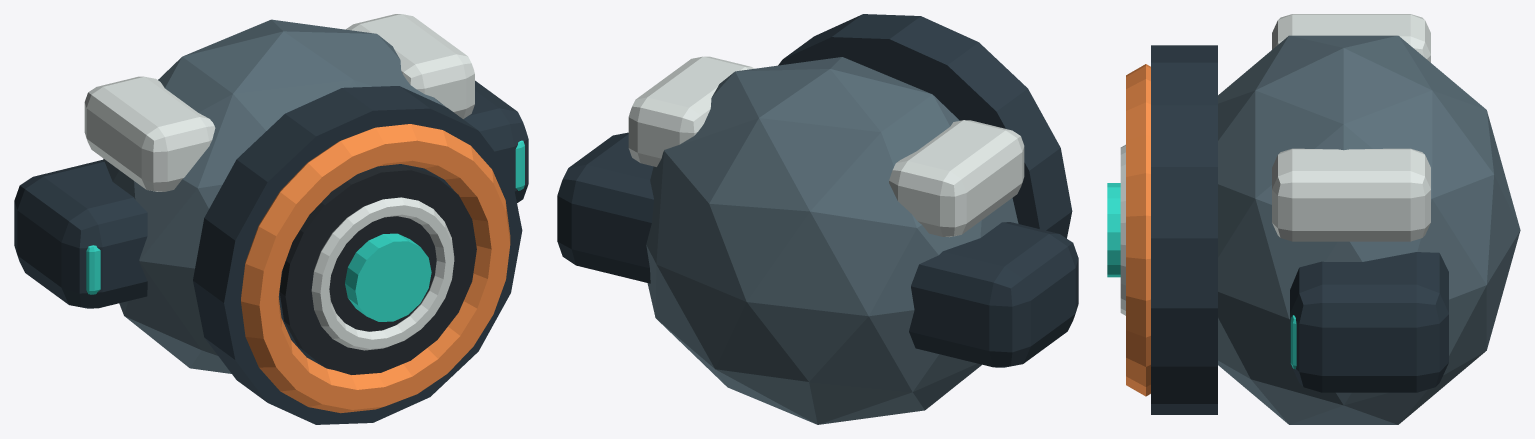
The model's file is 9c879f1d-0dc1-4c38-b940-bfd8a2f8bf49.glb.
3 views of the same model, side by side, from view 1: azimuth 30°, elevation 25°; view 2: azimuth 150°, elevation 25°; view 3: azimuth 270°, elevation 25° (orthographic). The views are drawn at different scales.
Visible parts, largest first — view 1: Drone; view 2: Drone; view 3: Drone.
Part boxes in pixels (x1,y1,x2,y2): Drone: (14, 14, 528, 424); Drone: (557, 14, 1078, 424); Drone: (1107, 14, 1520, 424).
Bounding box in the file's own units: 1.12 × 0.7826 × 0.804.
